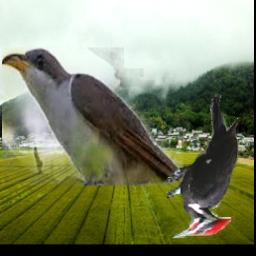Cuckoo: (3, 48, 185, 186)
Woodpecker: (168, 95, 240, 239)
